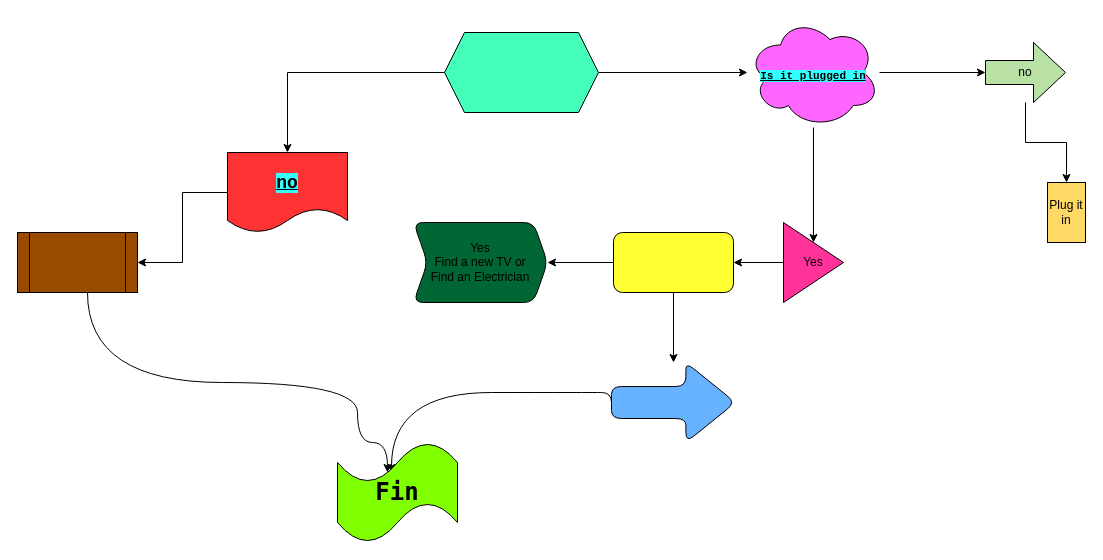
Image size: 1103x560. Some labels were removed from this diagram. The box of each missing label's shape, as (x1, y1, x2, y2) in pixels:
is it on: (612, 232, 734, 292)
Is your TV broken: (444, 32, 598, 112)
No turn that tv on: (610, 362, 736, 442)
Your fine: (16, 232, 138, 292)
